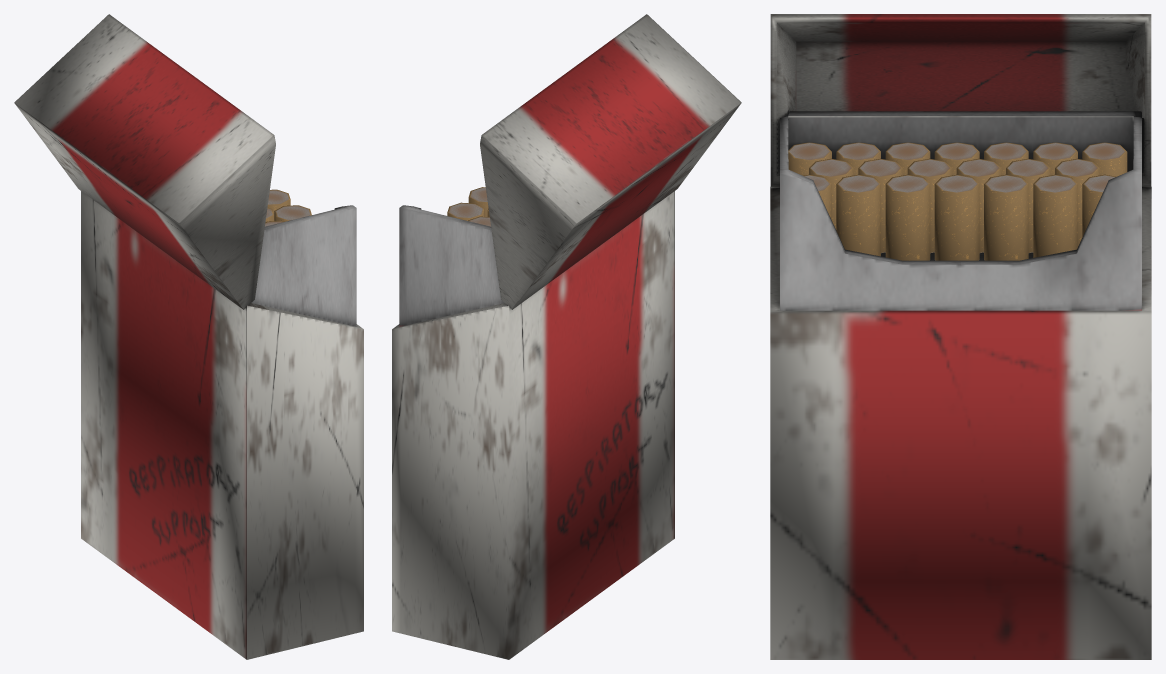
The model's file is packet_texture_final.fbx.
The picture shows the model from 3 angles, left to right: view 1: azimuth 30°, elevation 25°; view 2: azimuth 150°, elevation 25°; view 3: azimuth 270°, elevation 25°; orthographic projection. The views are drawn at different scales.
Visible parts, largest first — view 1: packet_final; view 2: packet_final; view 3: packet_final.
Boxes of the visible parts, left/top/right/bottom form: packet_final: left=14, top=14, right=363, bottom=659; packet_final: left=392, top=14, right=741, bottom=659; packet_final: left=770, top=14, right=1151, bottom=659.
Size of the model in its own units: 165 by 444 by 258.
